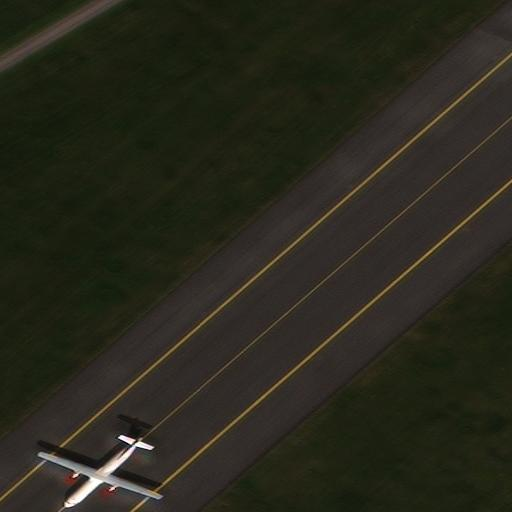Medium Civil Transport: (35, 434, 159, 510)
